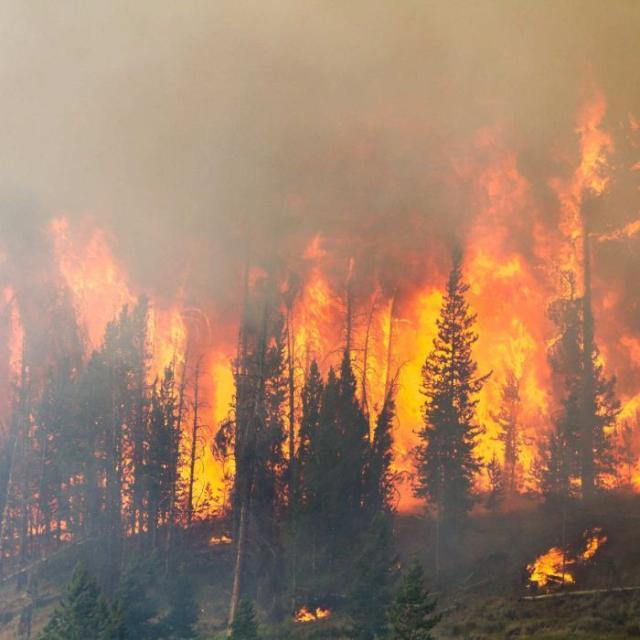Fire: (460, 78, 640, 332), (392, 332, 640, 508), (243, 240, 454, 394), (112, 308, 245, 524), (2, 218, 152, 398), (496, 504, 617, 612)
Smoke: (0, 0, 254, 216), (256, 0, 454, 236)
